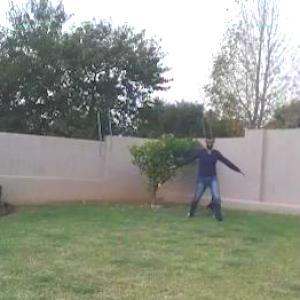land: (159, 127, 243, 227)
